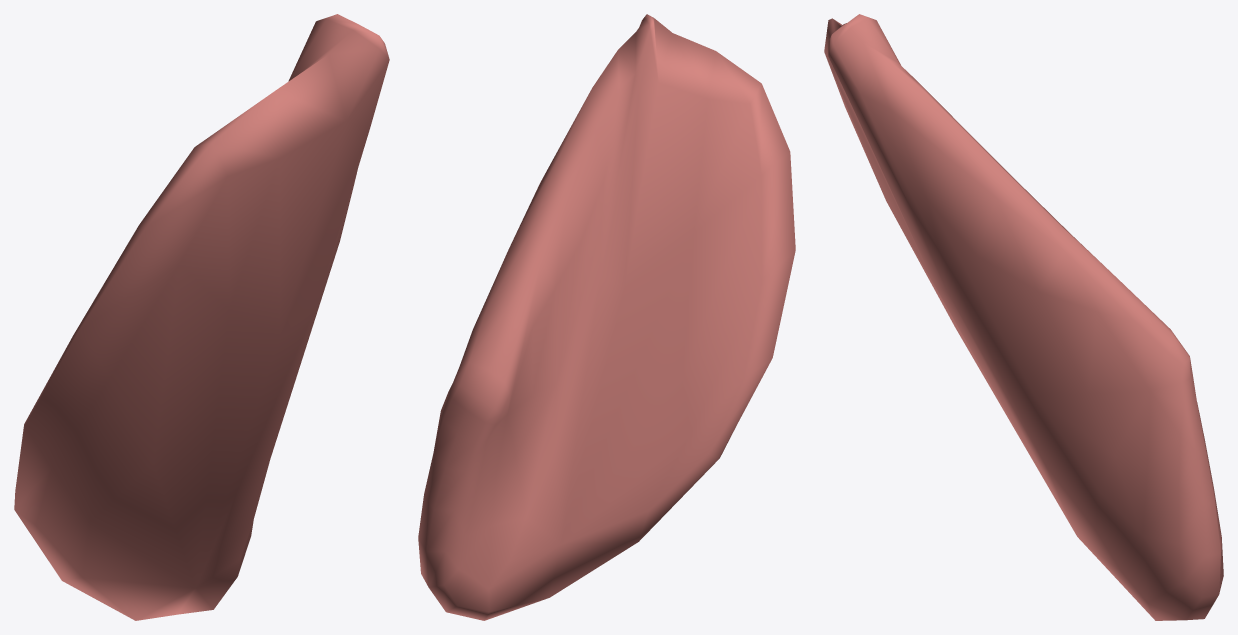
3 renders of one model, left to right at view 1: azimuth 30°, elevation 25°; view 2: azimuth 150°, elevation 25°; view 3: azimuth 270°, elevation 25°, orthographic. The views are drawn at different scales.
Parts seen in each view (by area): view 1: ZA_9dec468d3b901e2e; view 2: ZA_9dec468d3b901e2e; view 3: ZA_9dec468d3b901e2e.
Part boxes in pixels (x1,y1,x2,y2): ZA_9dec468d3b901e2e: (14,14,389,620); ZA_9dec468d3b901e2e: (418,14,795,620); ZA_9dec468d3b901e2e: (824,14,1223,620).
Bounding box in the file's own units: 0.00223 × 0.00436 × 0.00269.
